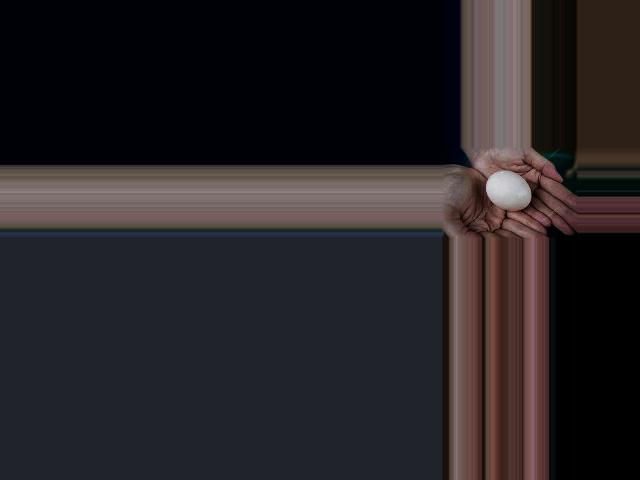egg: (486, 171, 531, 210)
